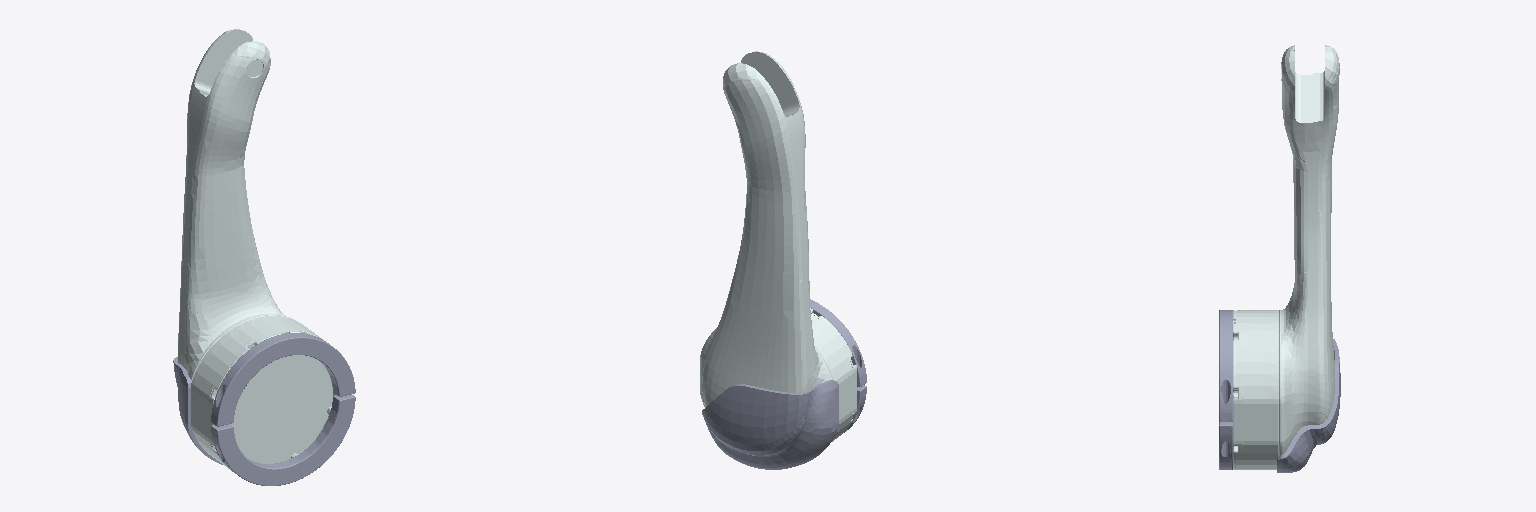
File: thigh_mirror.obj
The picture shows the model from 3 angles: view 1: azimuth 30°, elevation 25°; view 2: azimuth 150°, elevation 25°; view 3: azimuth 270°, elevation 25°; orthographic projection.
Visible parts, largest first — view 1: thigh.FR0815; view 2: thigh.FR0815; view 3: thigh.FR0815.
Boxes of the visible parts, x1,y1,x2,y2 form: thigh.FR0815: [173, 29, 355, 485]; thigh.FR0815: [700, 51, 866, 469]; thigh.FR0815: [1219, 45, 1340, 472].
Size of the model in its own units: 0.0969 by 0.2779 by 0.0734.